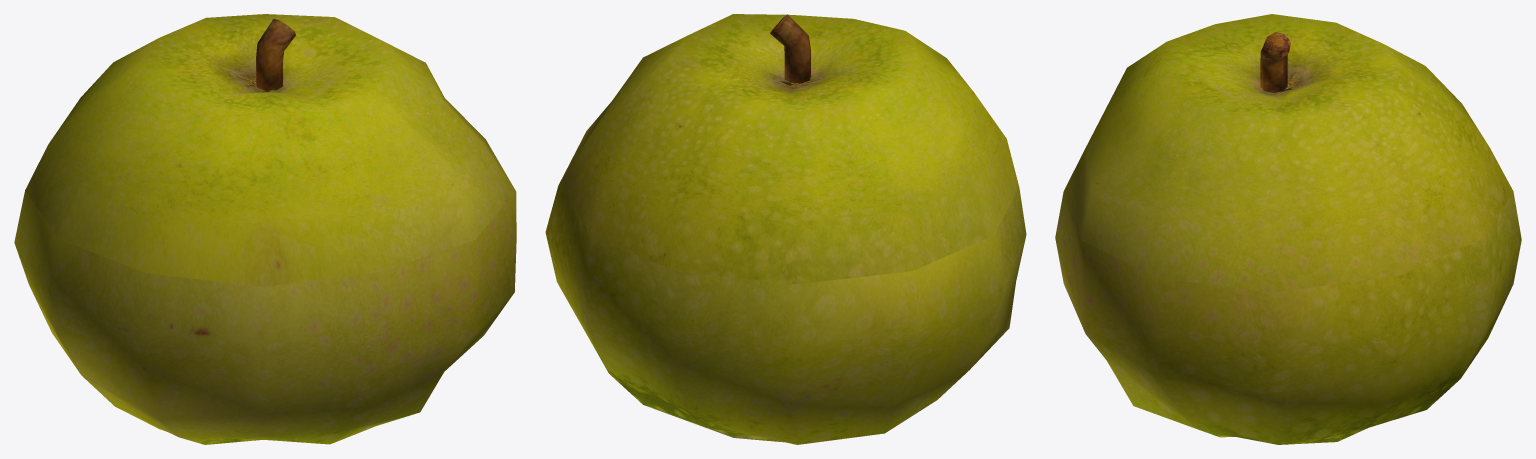
File: Apfel_Gruen.fbx
3 views of the same model, side by side, from view 1: azimuth 30°, elevation 25°; view 2: azimuth 150°, elevation 25°; view 3: azimuth 270°, elevation 25° (orthographic). The views are drawn at different scales.
Parts seen in each view (by area): view 1: Apfel_Gruen; view 2: Apfel_Gruen; view 3: Apfel_Gruen.
Part boxes in pixels (x1,y1,x2,y2): Apfel_Gruen: (14, 14, 516, 444); Apfel_Gruen: (545, 14, 1026, 444); Apfel_Gruen: (1055, 14, 1521, 444).
Bounding box in the file's own units: 11.84 × 10.05 × 11.47.
